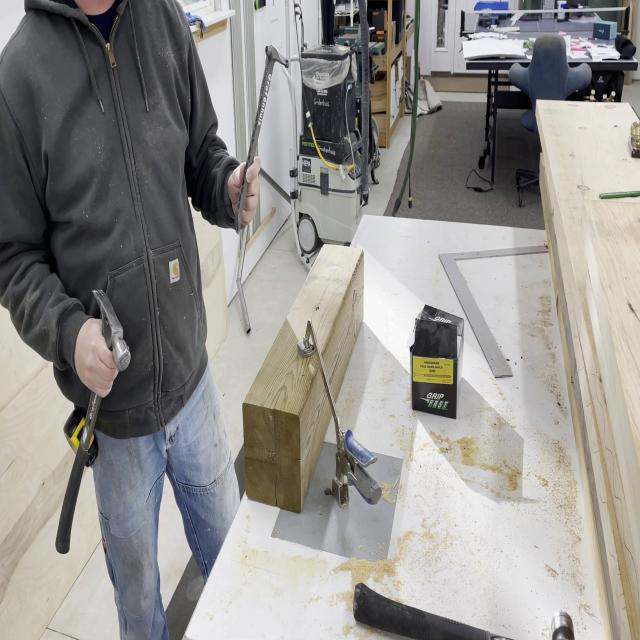hammer: (353, 582, 575, 640)
